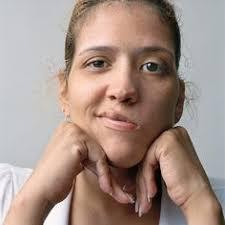strokeEyeMid: (76, 42, 174, 78)
strokeMouthSevere: (94, 106, 143, 135)
